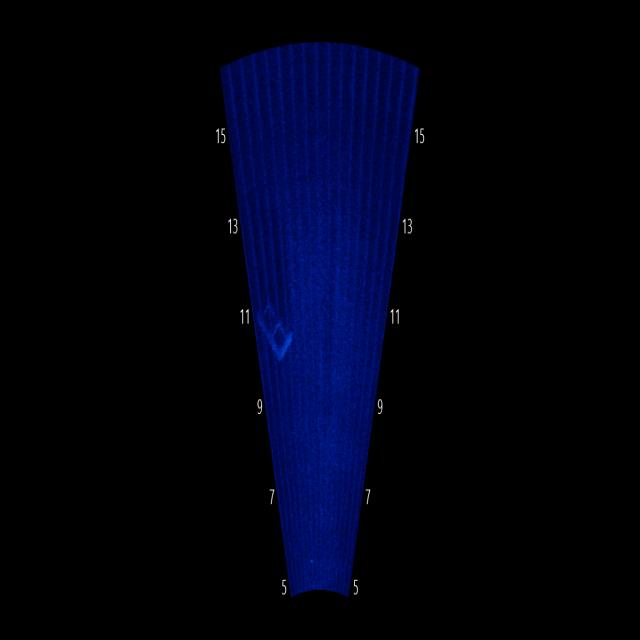square: (255, 276, 294, 380)
